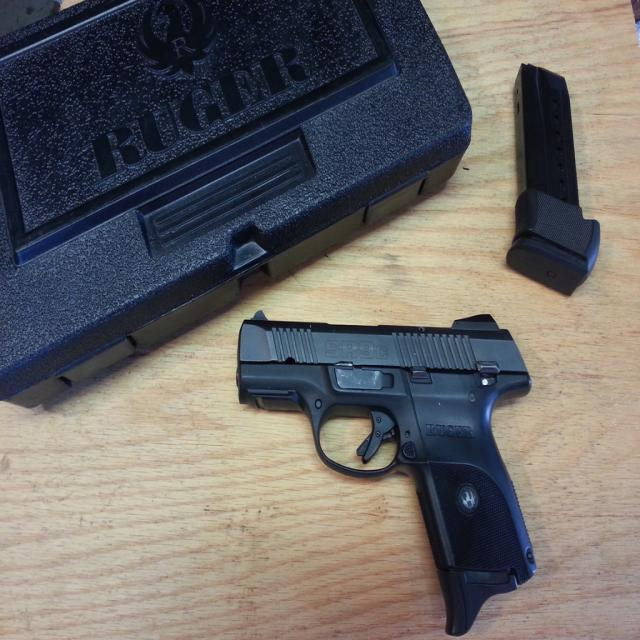Gun: (236, 315, 535, 634)
